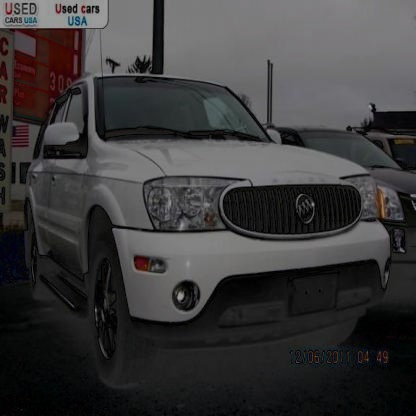Vehicle: (22, 72, 398, 370)
